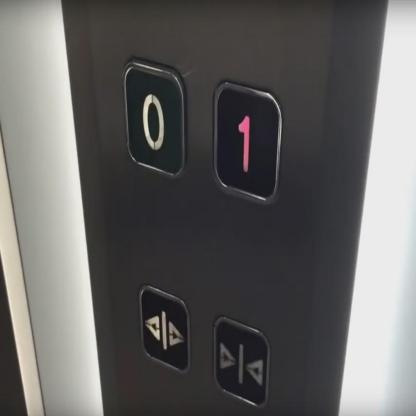0: (120, 53, 186, 180)
1: (212, 76, 282, 206)
close: (213, 313, 270, 409)
open: (138, 281, 190, 374)
